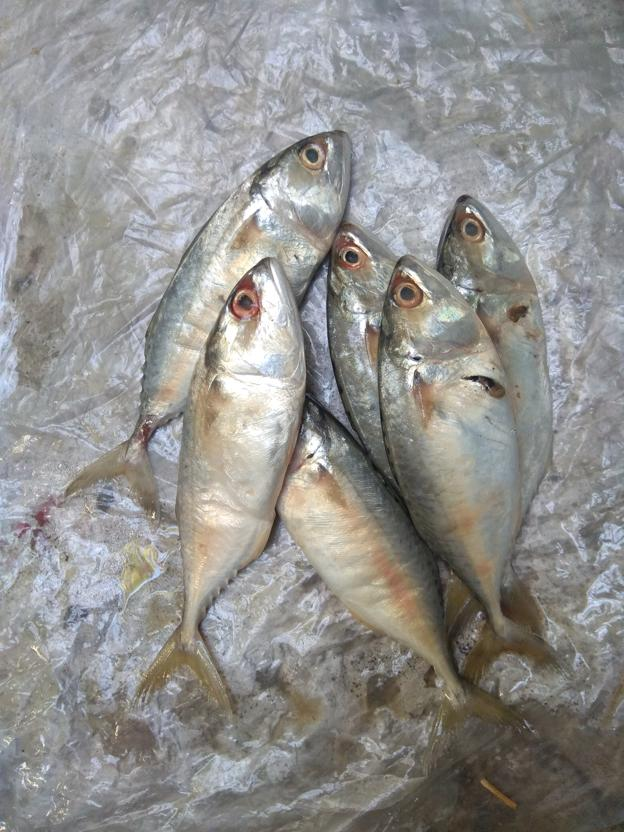Fish head: (203, 255, 310, 381), (383, 254, 489, 370), (255, 129, 354, 241), (435, 193, 537, 294), (325, 222, 406, 320)
Fish tail: (132, 620, 239, 725), (63, 432, 163, 522), (459, 617, 567, 683), (441, 681, 527, 745)
